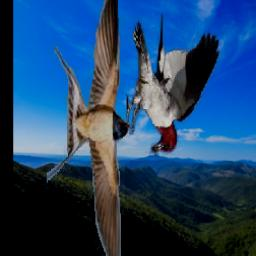Swallow: (47, 0, 130, 256)
Woodpecker: (125, 14, 219, 156)
